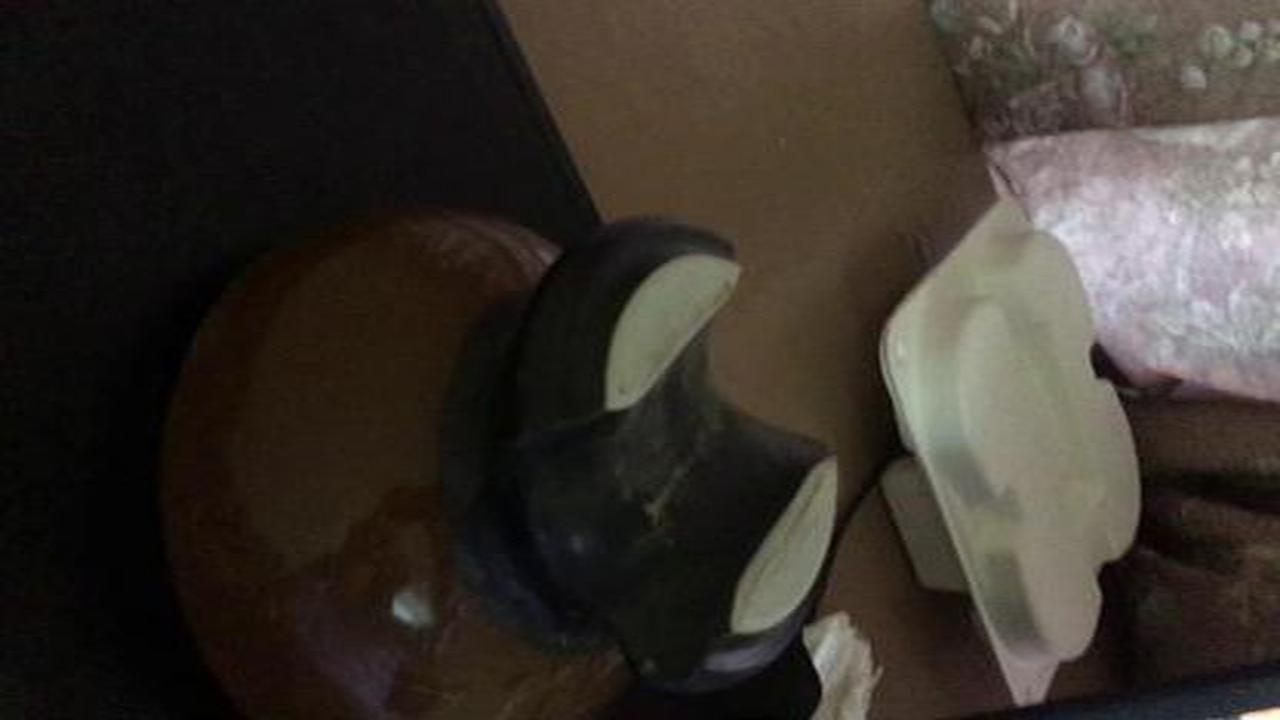insulator_pin: (136, 194, 874, 717)
